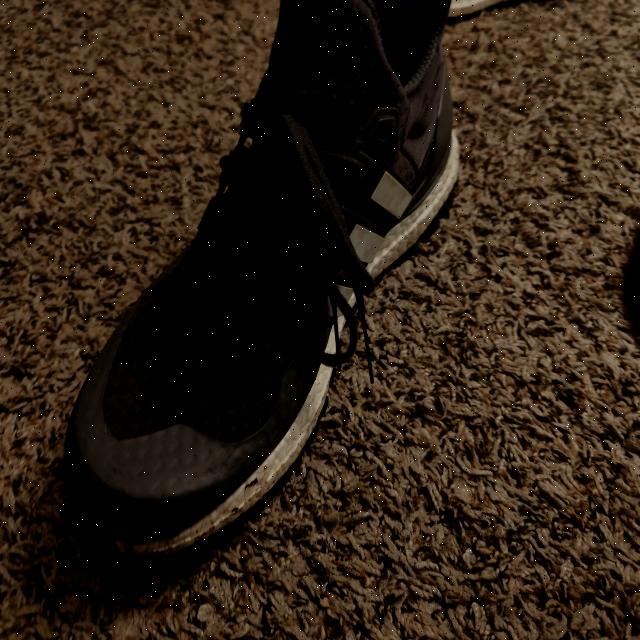black shoes: (210, 1, 404, 350)
